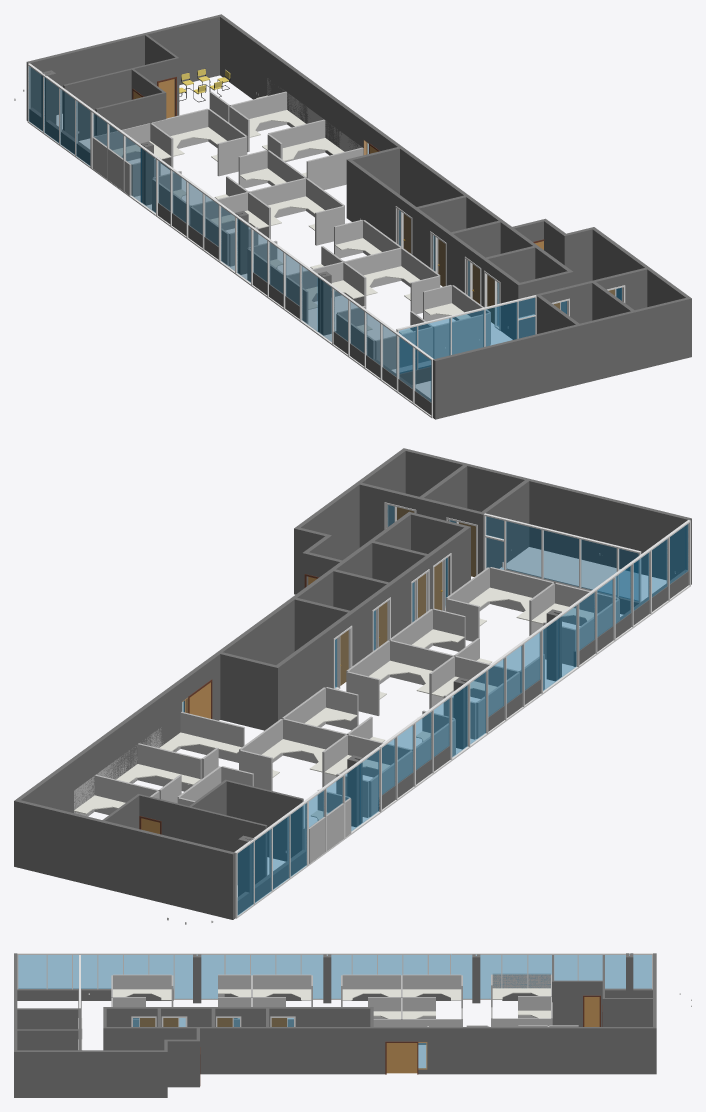
Rendered from new_office_without_furniture2.fbx.
3 views of the same model, one above another, from view 1: azimuth 30°, elevation 25°; view 2: azimuth 150°, elevation 25°; view 3: azimuth 270°, elevation 25° (orthographic). The views are drawn at different scales.
Parts seen in each view (by area): view 1: Generic_-_8"_96, Generic_-_8"_95, 6X5_72, System_Panel_6, 6X5_70, Generic_-_8"_94, 6X6_76, Generic_-_8"_114, Generic_-_5"_129, Rectangular_Mullion_32, 6X5_h_80, Generic_-_8"_119 (+40 smaller); view 2: Generic_-_8"_94, Generic_-_8"_96, Generic_-_8"_95, 6X5_72, System_Panel_6, 6X5_70, Generic_-_8"_114, 6X6_76, Rectangular_Mullion_32, Generic_-_5"_129, Generic_-_8"_118, Generic_-_8"_106 (+39 smaller); view 3: Generic_-_8"_95, System_Panel_6, Generic_-_8"_106, System_Panel_10, 6X5_72, Generic_-_8"_114, 6X5_70, Generic_-_8"_119, Generic_-_5"_132, Generic_-_8"_108, 6X5_h_80, Generic_-_5"_130 (+33 smaller).
Boxes of the visible parts, x1,y1,x2,y2 form: Generic_-_8"_96: [433, 297, 691, 419]; Generic_-_8"_95: [220, 16, 573, 285]; 6X5_72: [152, 78, 490, 351]; System_Panel_6: [126, 137, 412, 388]; 6X5_70: [173, 91, 421, 369]; Generic_-_8"_94: [26, 14, 223, 120]; 6X6_76: [208, 150, 471, 321]; Generic_-_8"_114: [413, 207, 519, 339]; Generic_-_5"_129: [63, 57, 179, 140]; Rectangular_Mullion_32: [43, 75, 415, 404]; 6X5_h_80: [122, 123, 366, 308]; Generic_-_8"_119: [348, 160, 415, 254]; Generic_-_8"_94: [14, 799, 235, 919]; Generic_-_8"_96: [401, 448, 691, 584]; Generic_-_8"_95: [16, 511, 412, 815]; 6X5_72: [74, 567, 598, 817]; System_Panel_6: [345, 539, 667, 830]; 6X5_70: [94, 590, 619, 814]; Generic_-_8"_114: [348, 527, 468, 665]; 6X6_76: [239, 582, 479, 790]; Rectangular_Mullion_32: [253, 535, 669, 905]; Generic_-_5"_129: [137, 794, 267, 884]; Generic_-_8"_118: [220, 652, 280, 730]; Generic_-_8"_106: [294, 450, 405, 594]; Generic_-_8"_95: [103, 1027, 652, 1074]; System_Panel_6: [48, 955, 500, 998]; Generic_-_8"_106: [17, 1050, 167, 1097]; System_Panel_10: [22, 955, 526, 998]; 6X5_72: [133, 974, 548, 1044]; Generic_-_8"_114: [106, 1007, 269, 1026]; 6X5_70: [111, 974, 578, 1026]; Generic_-_8"_119: [269, 1007, 370, 1026]; Generic_-_5"_132: [554, 980, 602, 1026]; Generic_-_8"_108: [167, 1039, 199, 1087]; 6X5_h_80: [218, 985, 551, 1018]; Generic_-_5"_130: [605, 998, 652, 1026].
Size of the model in its own units: 46.04 by 10 by 133.
